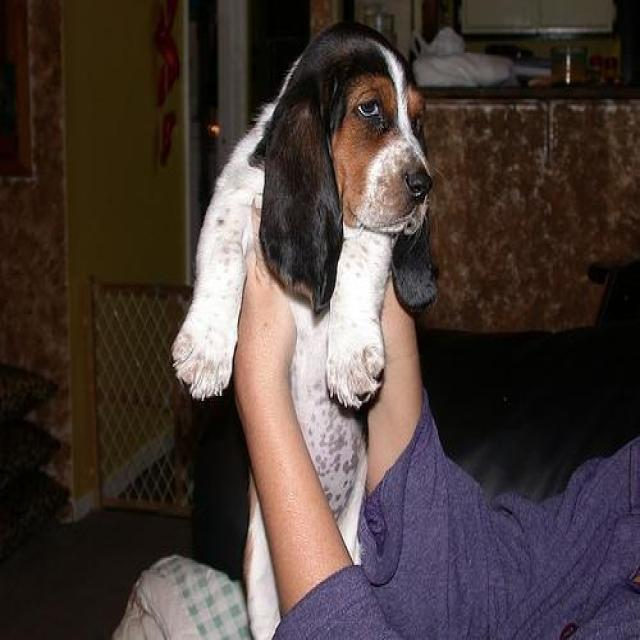basset: (169, 21, 443, 638)
